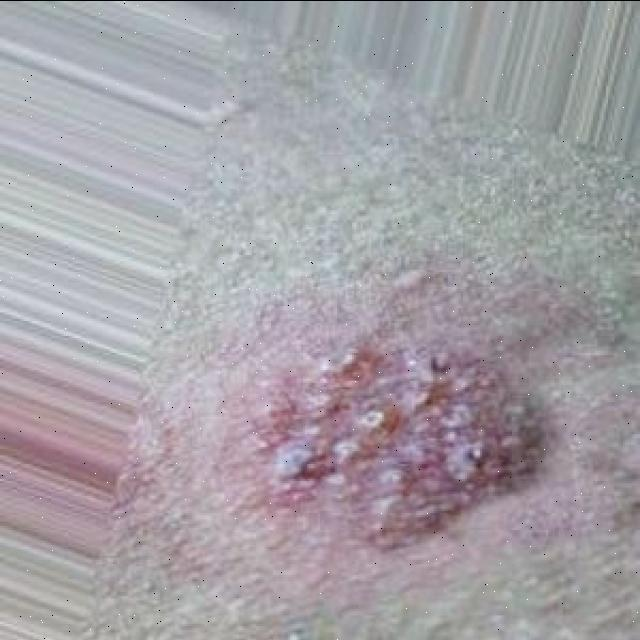Shingles: (249, 334, 556, 548)
